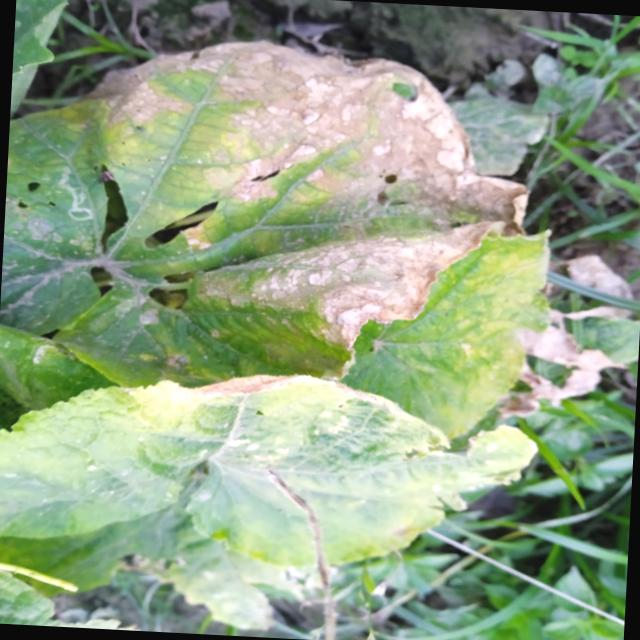cucumber_gummy: (0, 1, 609, 459), (0, 352, 542, 618)
